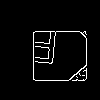F: (25, 25, 60, 73)
